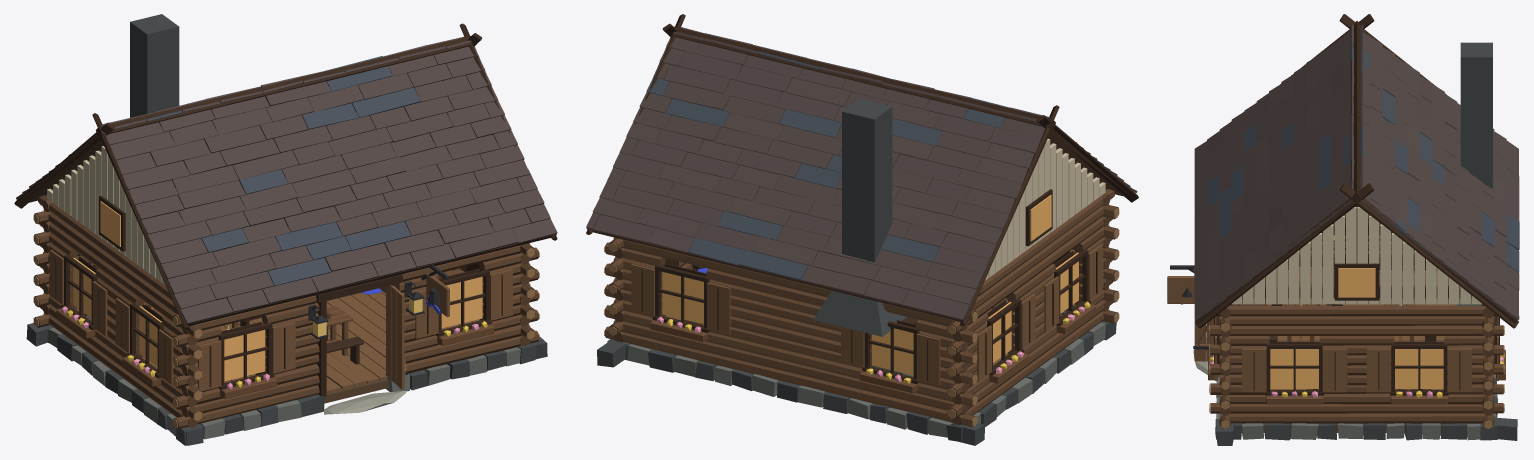
The model's file is Inn_SpilledInkpot.glb.
3 views of the same model, side by side, from view 1: azimuth 30°, elevation 25°; view 2: azimuth 150°, elevation 25°; view 3: azimuth 270°, elevation 25° (orthographic). The views are drawn at different scales.
Visible parts, largest first — view 1: Roof__Shingle, WallLeft__Log, RoofB__Slate, WallFrontL__Log, WindowsShutters__Shutter, WallFrontR__Log, WindowsFrames__Timber, RoofTrim__Timber, RoofGables__Plaster, FoundationB__StoneDark, Floor__Plank, HearthStack__StoneDark (+14 smaller); view 2: Roof__Shingle, WallBack__Log, WallLeft__Log, HearthStack__StoneDark, RoofB__Slate, WindowsShutters__Shutter, WindowsFrames__Timber, RoofTrim__Timber, FoundationB__StoneDark, RoofGables__Plaster, Foundation__Stone, WindowsPanes__Window (+6 smaller); view 3: Roof__Shingle, WallRight__Log, RoofGables__Plaster, RoofB__Slate, WindowsShutters__Shutter, HearthStack__StoneDark, RoofTrim__Timber, WindowsPanes__Window, WindowsFrames__Timber, FoundationB__StoneDark, Foundation__Stone, WindowsBoxes__Planter (+10 smaller).
Boxes of the visible parts, x1,y1,x2,y2 form: Roof__Shingle: [16, 36, 557, 324]; WallLeft__Log: [38, 195, 203, 427]; RoofB__Slate: [146, 56, 420, 285]; WallFrontL__Log: [173, 295, 319, 429]; WindowsShutters__Shutter: [49, 249, 512, 391]; WallFrontR__Log: [399, 243, 539, 373]; WindowsFrames__Timber: [55, 255, 502, 389]; RoofTrim__Timber: [14, 23, 557, 330]; RoofGables__Plaster: [47, 146, 165, 285]; FoundationB__StoneDark: [26, 315, 547, 445]; Floor__Plank: [90, 291, 479, 393]; HearthStack__StoneDark: [130, 14, 179, 117]; Roof__Shingle: [586, 27, 1137, 320]; WallBack__Log: [604, 237, 976, 427]; WallLeft__Log: [946, 189, 1114, 424]; HearthStack__StoneDark: [813, 99, 906, 336]; RoofB__Slate: [646, 51, 1009, 280]; WindowsShutters__Shutter: [631, 244, 1102, 386]; WindowsFrames__Timber: [641, 249, 1097, 384]; RoofTrim__Timber: [586, 14, 1138, 326]; FoundationB__StoneDark: [597, 311, 1116, 445]; RoofGables__Plaster: [985, 138, 1105, 280]; Foundation__Stone: [623, 322, 1105, 437]; WindowsPanes__Window: [662, 249, 1078, 375]; Roof__Shingle: [1194, 24, 1519, 319]; WallRight__Log: [1210, 306, 1503, 423]; RoofGables__Plaster: [1232, 207, 1481, 304]; RoofB__Slate: [1207, 43, 1519, 272]; WindowsShutters__Shutter: [1215, 316, 1498, 392]; HearthStack__StoneDark: [1460, 42, 1492, 188]; RoofTrim__Timber: [1195, 14, 1518, 328]; WindowsPanes__Window: [1270, 349, 1443, 388]; WindowsFrames__Timber: [1214, 304, 1499, 395]; FoundationB__StoneDark: [1215, 270, 1517, 445]; Foundation__Stone: [1216, 270, 1497, 440]; WindowsBoxes__Planter: [1208, 349, 1505, 404].
Size of the model in its own units: 0.328 by 0.2469 by 0.2824.
